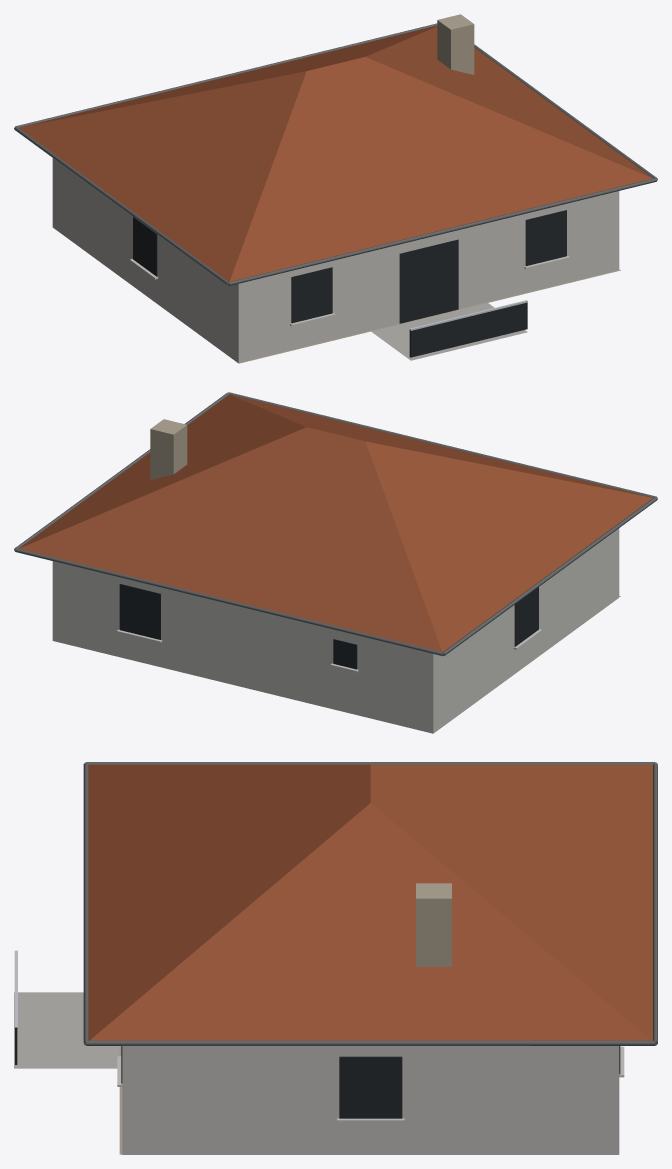
Rendered from bina_12_ust.glb.
3 views of the same model, one above another, from view 1: azimuth 30°, elevation 25°; view 2: azimuth 150°, elevation 25°; view 3: azimuth 270°, elevation 25° (orthographic). The views are drawn at different scales.
Visible parts, largest first — view 1: P12_ust; view 2: P12_ust; view 3: P12_ust.
Part boxes in pixels (x1,y1,x2,y2): P12_ust: (14,14,657,363); P12_ust: (14,392,657,733); P12_ust: (14,762,657,1154).
Bounding box in the file's own units: 14.72 × 6.04 × 14.26.
